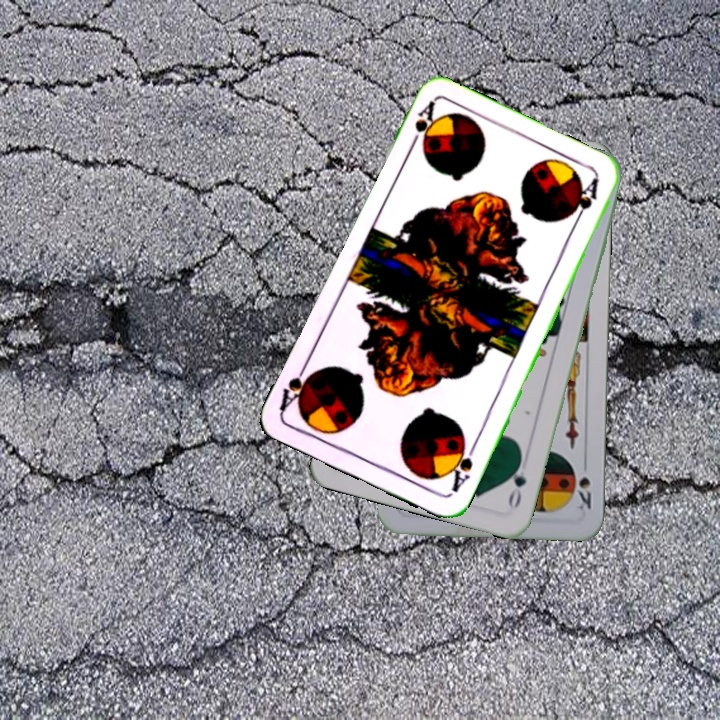GO: (504, 454, 529, 512)
SA: (444, 436, 479, 496), (405, 97, 441, 153)
SK: (570, 464, 594, 515)
